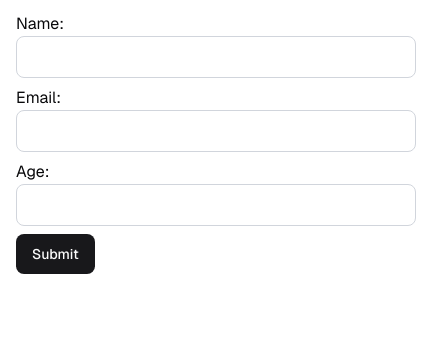
Scenario: UserForm Component › shows validation error for invalid email
輸入無效電子郵件
In the field labelled "Email:": (216, 131) [16,110,416,152], type "invalid-email"
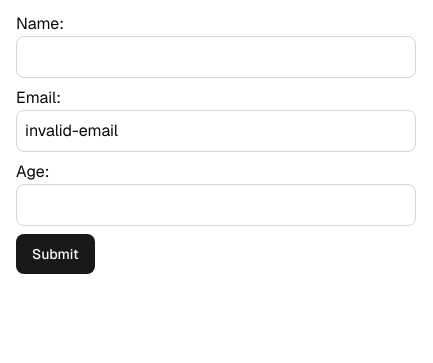
Click the button "Submit": (55, 254) [16,234,95,274]
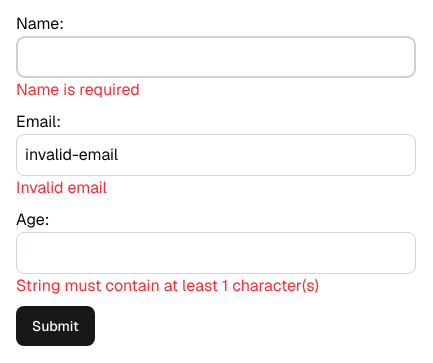
Now the text "Invalid email" is shown, box [16,177,107,198]
